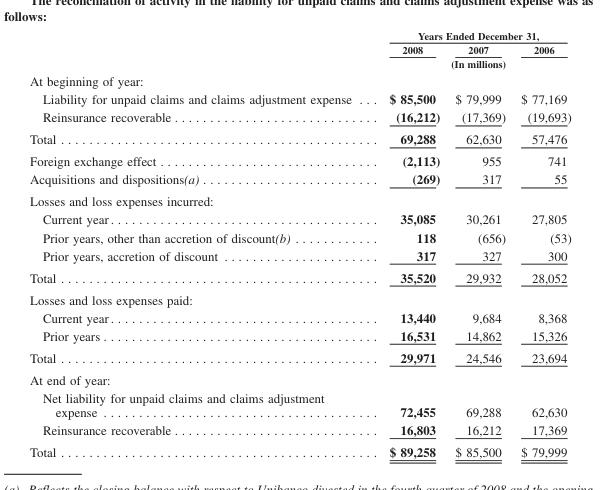table: (28, 29, 570, 458)
table column: (28, 29, 369, 458), (369, 29, 446, 458), (446, 29, 512, 458), (512, 29, 570, 458)
table column header: (28, 29, 570, 71)
table projected row header: (28, 368, 570, 388), (28, 190, 570, 209), (28, 288, 570, 307), (28, 71, 570, 89)
table row: (28, 388, 570, 420), (28, 265, 570, 288), (28, 127, 570, 149), (28, 346, 570, 368), (28, 169, 570, 190), (28, 107, 570, 127), (28, 149, 570, 169), (28, 245, 570, 265), (28, 326, 570, 346), (28, 368, 570, 388), (28, 420, 570, 440), (28, 190, 570, 209), (28, 288, 570, 307), (28, 307, 570, 326), (28, 71, 570, 89), (28, 89, 570, 107), (28, 209, 570, 227), (28, 227, 570, 245), (28, 440, 570, 458), (28, 56, 570, 71), (28, 42, 570, 56), (28, 29, 570, 42)
table spanning cell: (369, 56, 570, 71), (369, 29, 570, 42)
